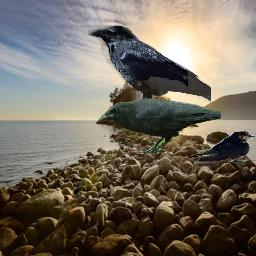Crow: (88, 25, 211, 106), (98, 98, 221, 155)
Swallow: (191, 131, 255, 166)
